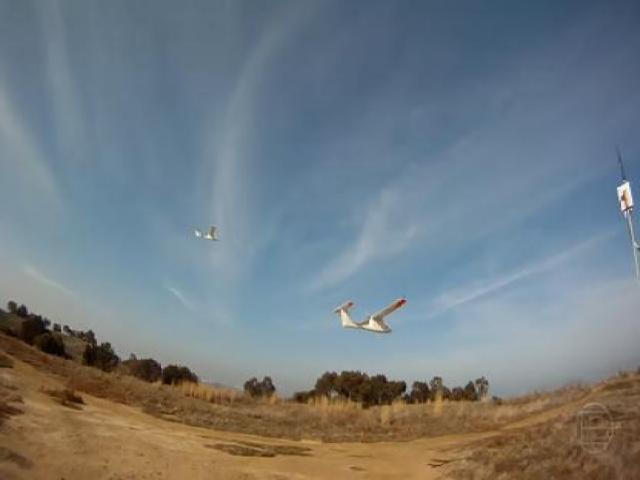uav: (327, 290, 411, 343), (192, 217, 222, 250)
